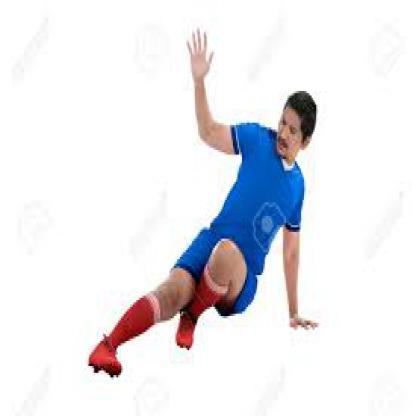Fall_Down: (86, 24, 320, 384)
